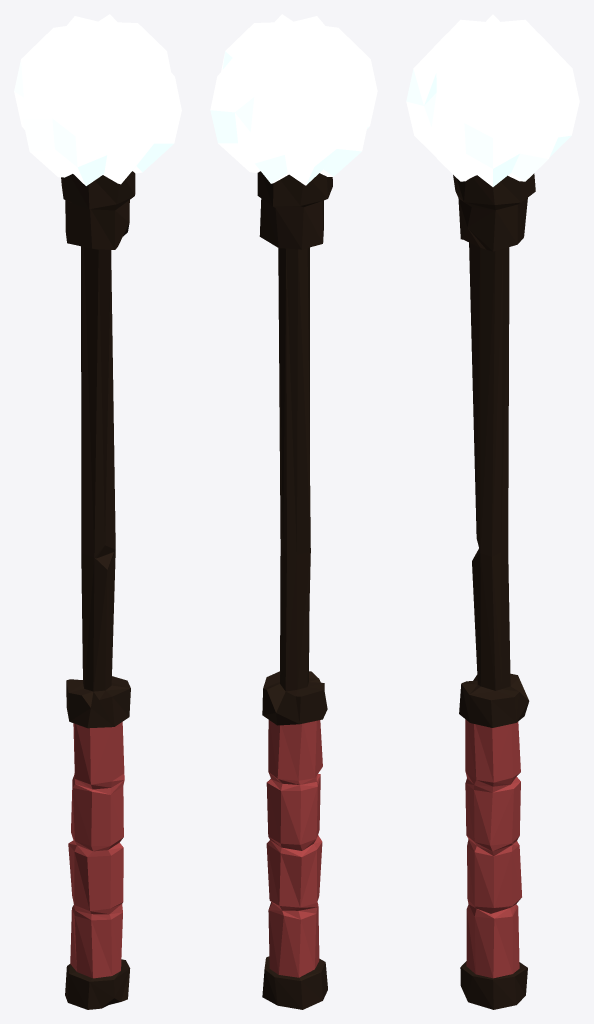
File: SFFA_Weapon_Mace_Runical_001.fbx
3 views of the same model, side by side, from view 1: azimuth 30°, elevation 25°; view 2: azimuth 150°, elevation 25°; view 3: azimuth 270°, elevation 25° (orthographic).
Visible parts, largest first — view 1: SFFA_Weapon_Mace_Runical_001; view 2: SFFA_Weapon_Mace_Runical_001; view 3: SFFA_Weapon_Mace_Runical_001.
Part boxes in pixels (x1,y1,x2,y2): SFFA_Weapon_Mace_Runical_001: [14, 14, 181, 1009]; SFFA_Weapon_Mace_Runical_001: [210, 14, 377, 1009]; SFFA_Weapon_Mace_Runical_001: [406, 14, 579, 1009].
Bounding box in the file's own units: 9.54 × 59.34 × 9.54.
